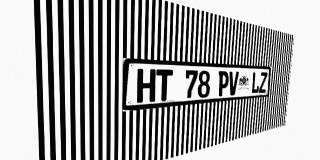7: (183, 70, 198, 99)
8: (197, 70, 211, 98)
H: (137, 69, 156, 103)
L: (251, 72, 260, 94)
P: (217, 71, 229, 96)
T: (155, 69, 173, 101)
V: (228, 71, 239, 96)
Z: (259, 72, 267, 93)
